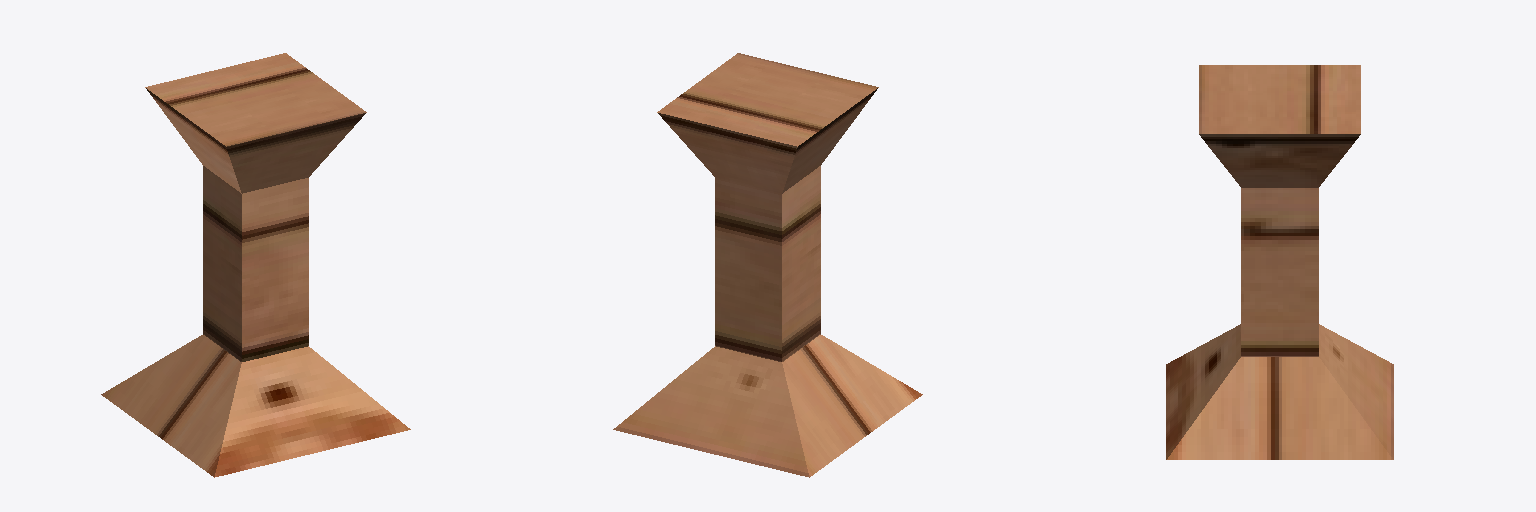
3 renders of one model, left to right at view 1: azimuth 30°, elevation 25°; view 2: azimuth 150°, elevation 25°; view 3: azimuth 270°, elevation 25°, orthographic.
Parts seen in each view (by area): view 1: Cube; view 2: Cube; view 3: Cube.
Boxes of the visible parts, x1,y1,x2,y2 form: Cube: [101, 53, 410, 477]; Cube: [613, 53, 922, 477]; Cube: [1166, 65, 1393, 459].
Bounding box in the file's own units: 2 × 3.04 × 2.
Materials: 1 (1 with a texture image).